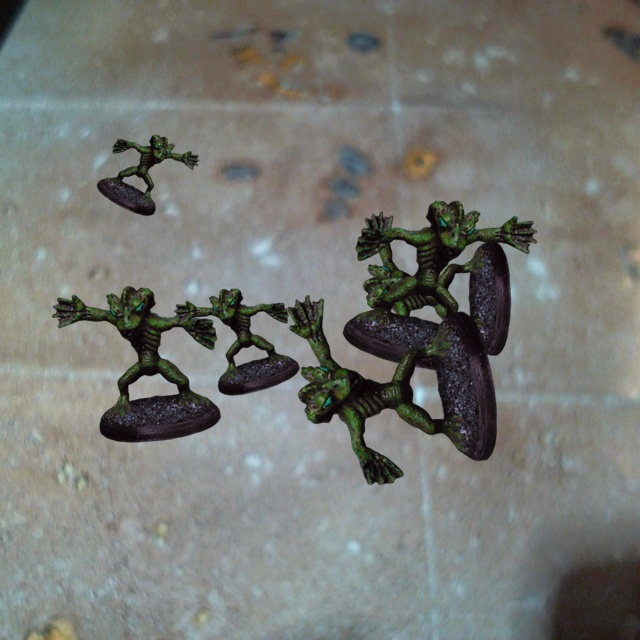pieza_juego: (287, 295, 496, 484), (343, 201, 536, 370), (52, 286, 220, 442), (363, 211, 510, 361), (174, 288, 299, 395), (97, 134, 198, 215)
